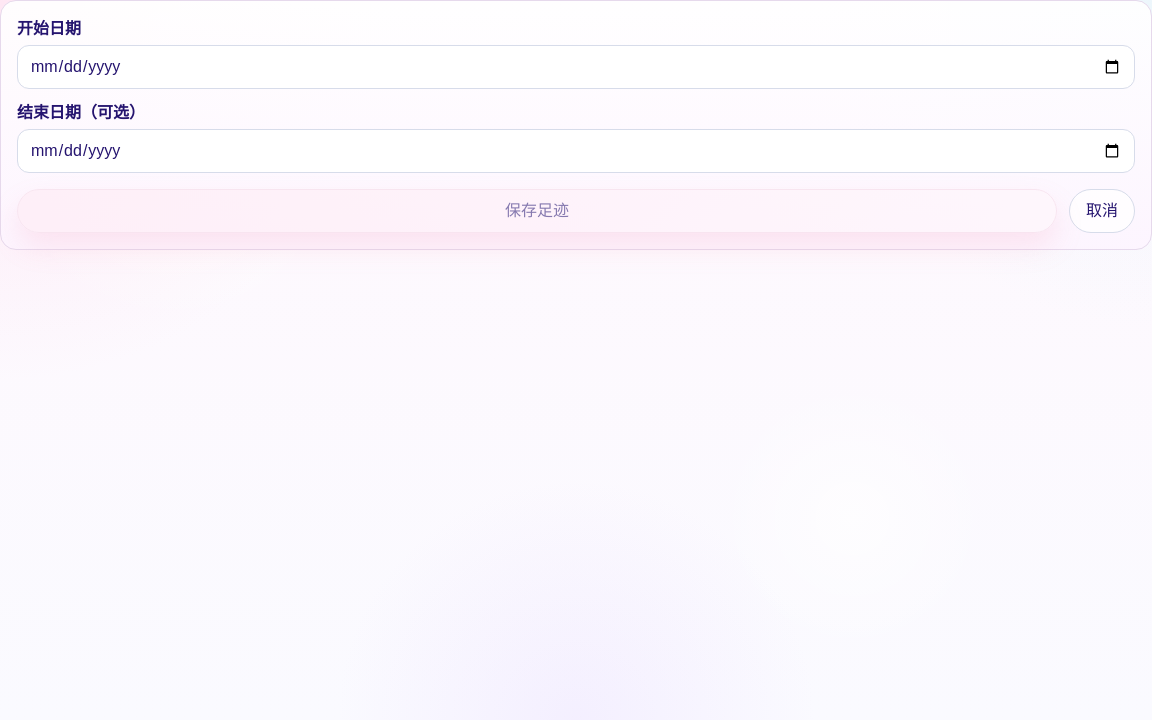
Test case: TripDateForm › shows a range error and disables save when endDate is earlier than startDate
The image size is (1152, 720).
Type "2025-10-07" into the date field labelled "开始日期".
click(576, 67); type("2025-10-07")  # box [17,45,1135,89]
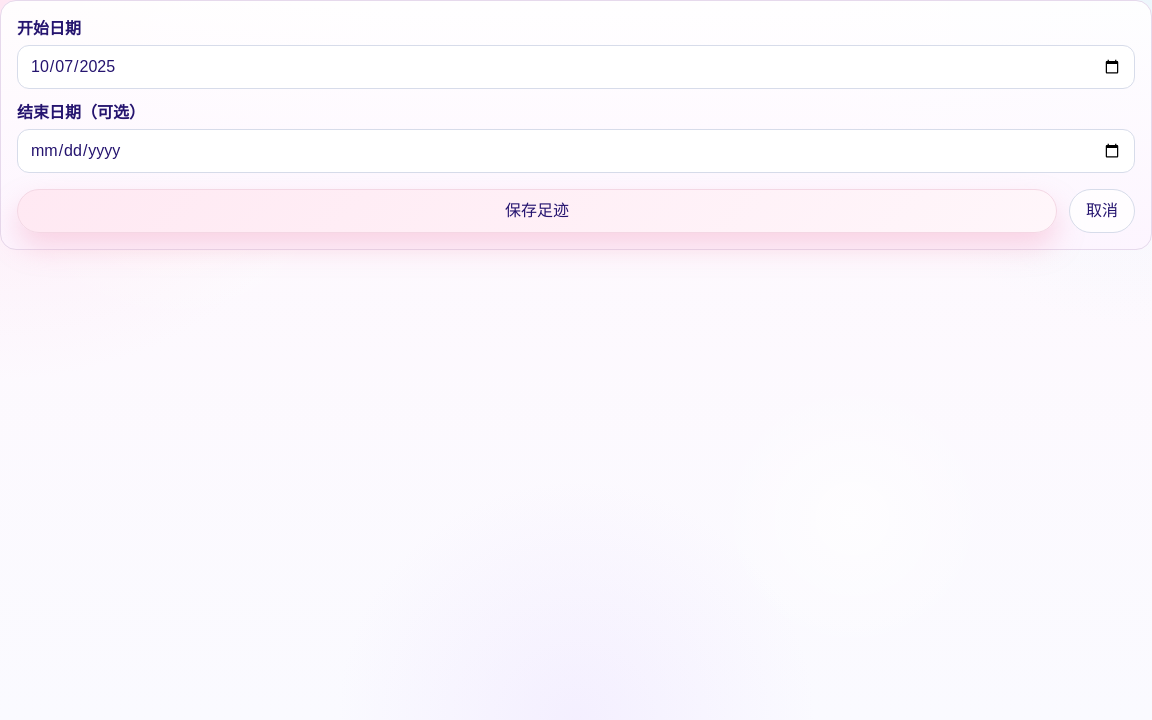
Type "2025-10-01" into the date field labelled "结束日期（可选）".
click(576, 151); type("2025-10-01")  # box [17,129,1135,173]
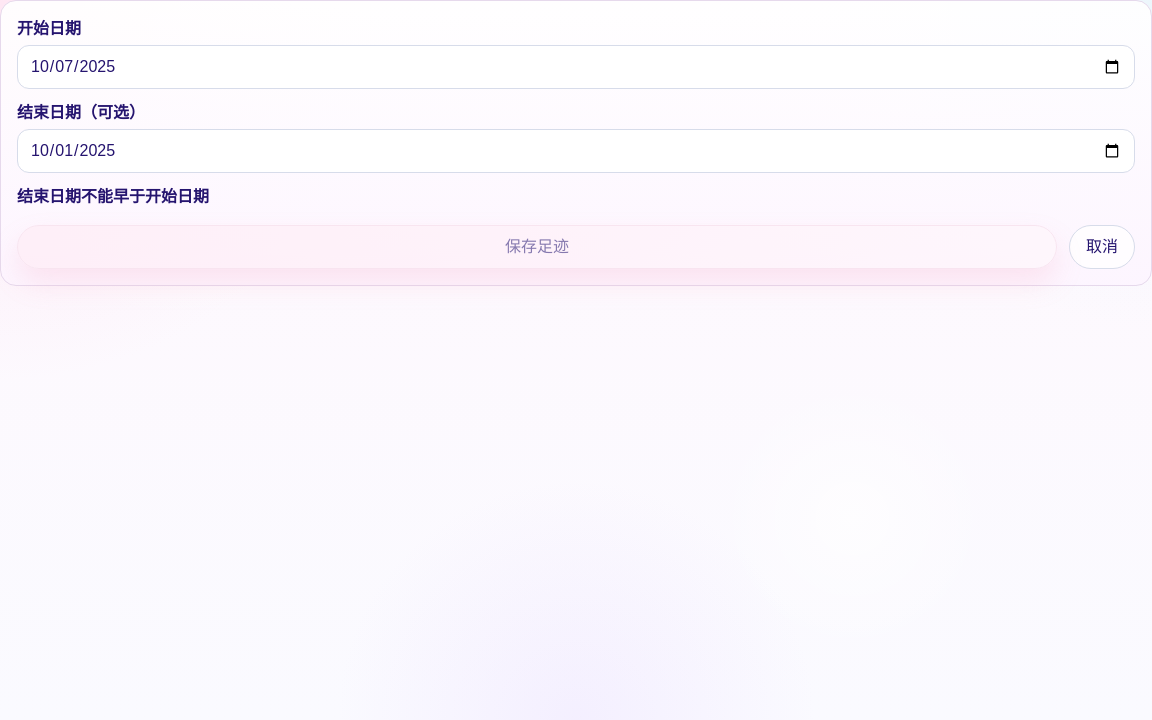
Now the message "结束日期不能早于开始日期" is shown, box [17,188,209,205]
Now the button "保存足迹" is disabled, box [17,225,1057,269]
